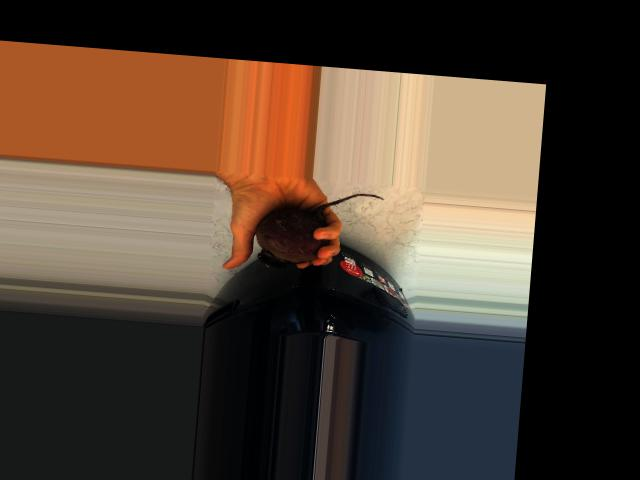beet: (254, 184, 384, 276)
